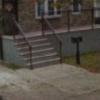stairs: (7, 32, 63, 71)
